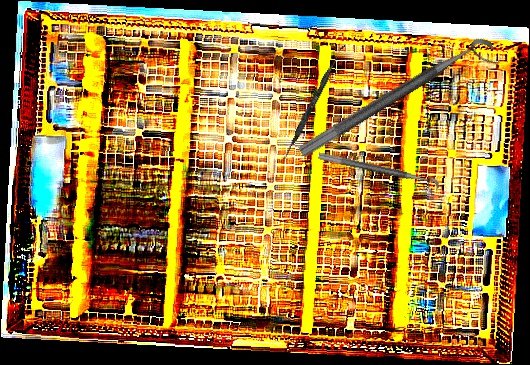Fixation Ring: (297, 32, 502, 175), (315, 151, 441, 198)
Spatula Surgical: (282, 41, 346, 162)
